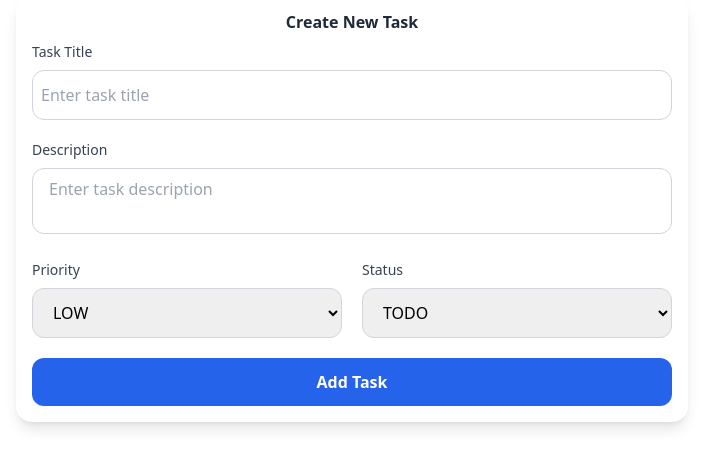
Test case: TaskForm › shows validation error when title is empty
Click the button "Add Task": (352, 382) top-left (32, 358), bottom-right (672, 406)
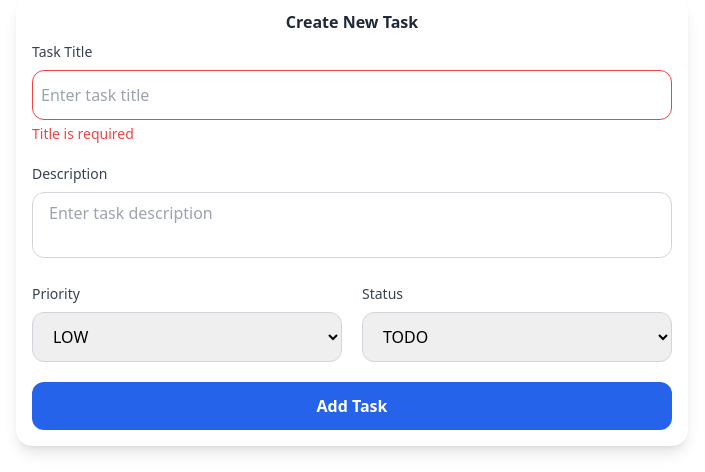
Check: the text "Title is required" is shown, box top-left (32, 124), bottom-right (134, 143)
